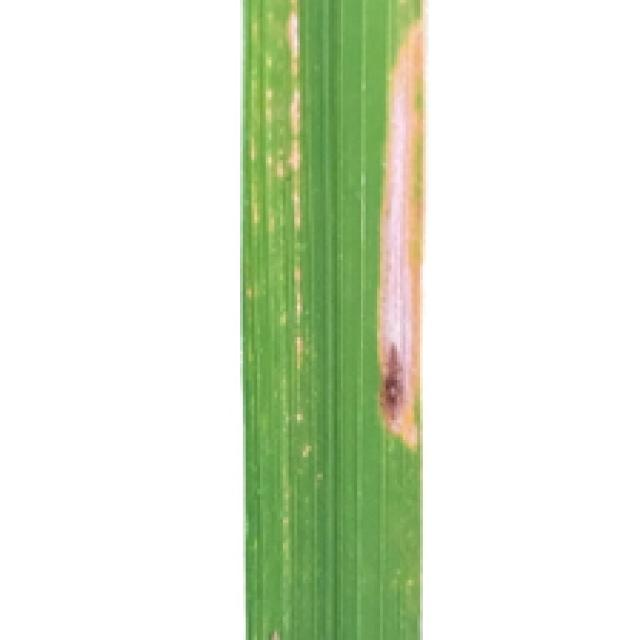Rice___Bacterial_Leaf_Blight: (239, 0, 429, 637)
